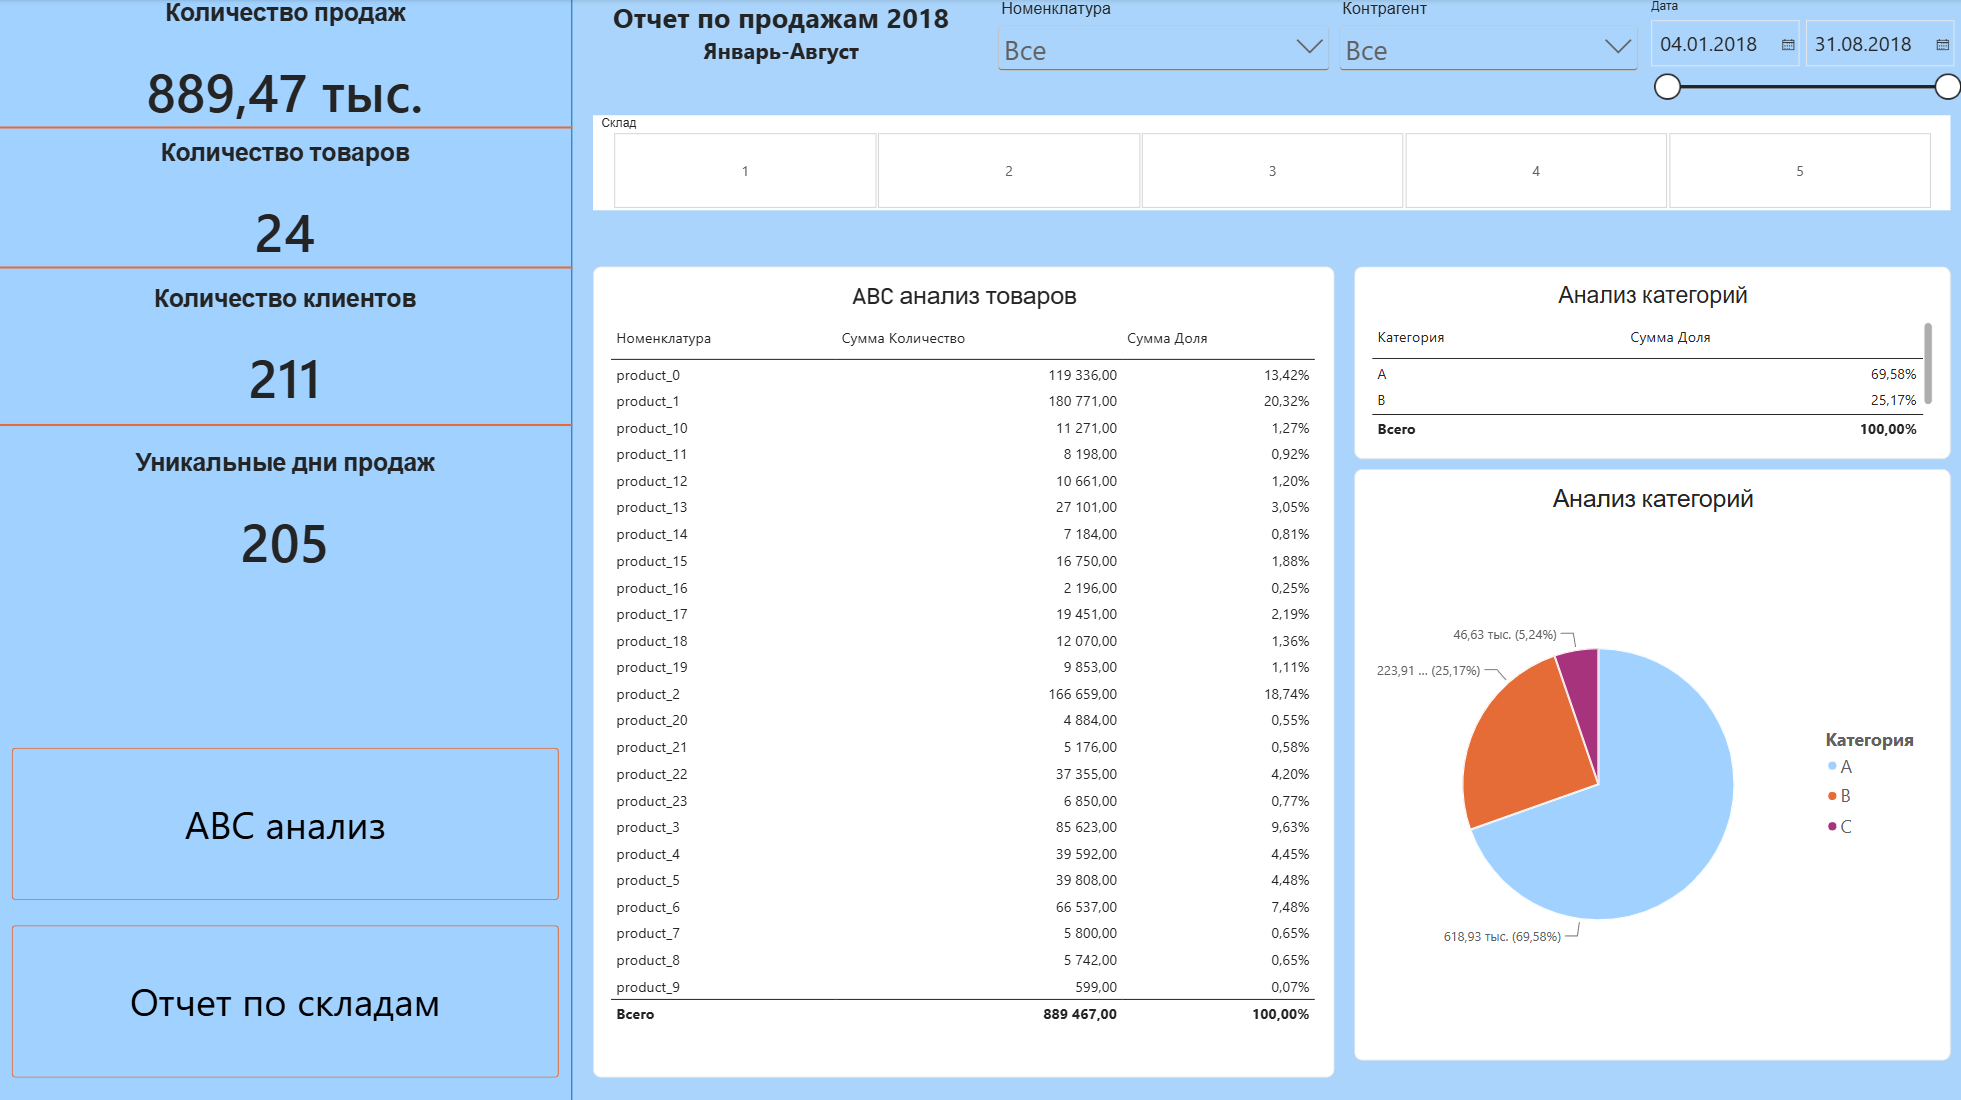

This screenshot's page, from the dashboard's own definition file:
{"tool":"powerbi","page":{"name":"ABC","canvas":[1920,1080],"ordinal":1},"visuals":[{"type":"shape","box":[0,0,560.8,1080.4],"z":0},{"type":"slicer","fields":{"Values":["data.Дата"]},"box":[1606.6,0,313.6,127.6],"z":1000},{"type":"slicer","fields":{"Values":["data.Контрагент"]},"box":[1305,0,301.7,127.6],"z":2000},{"type":"slicer","fields":{"Values":["data.Номенклатура"]},"box":[971.4,0,333.6,127.6],"z":3000},{"type":"slicer","fields":{"Values":["data.Склад"]},"box":[581,113.5,1325.6,92.8],"z":4000},{"type":"cardVisual","title":"Количество продаж","fields":{"Data":["Sum(data.Количество)"]},"box":[0,0,560.8,136.9],"z":5000},{"type":"cardVisual","title":"Количество товаров","fields":{"Data":["Count(data.Номенклатура)"]},"box":[0,136.9,560.8,136.9],"z":6000},{"type":"cardVisual","title":"Количество клиентов","fields":{"Data":["Count(data.Контрагент)"]},"box":[0,279.1,560.8,136.9],"z":7000},{"type":"cardVisual","title":"Уникальные дни продаж","fields":{"Data":["Count(data.Дата)"]},"box":[0,439.9,560.8,136.9],"z":8000},{"type":"textbox","box":[570.1,0,389.4,113],"z":11000},{"type":"shape","box":[0,113,560.8,23.9],"z":12000},{"type":"shape","box":[0,249.8,560.8,23.9],"z":13000},{"type":"shape","box":[0,404,560.8,23.9],"z":14000},{"type":"actionButton","title":"Отчет по складам","box":[13.3,905,534.2,148.8],"z":14001},{"type":"actionButton","box":[13.3,730.9,534.2,148.8],"z":14002},{"type":"tableEx","title":"ABC анализ товаров","fields":{"Values":["ABC.Номенклатура","Sum(data.Количество)","Sum(ABC.Доля)"]},"box":[581,261.2,723.8,792.2],"z":14003},{"type":"tableEx","title":"Анализ категорий","fields":{"Values":["ABC.Категория","ABC.Доля"]},"box":[1324.4,261.2,582.2,188],"z":14004},{"type":"pieChart","title":"Анализ категорий","fields":{"Category":["ABC.Категория"],"Y":["Sum(data.Количество)"]},"box":[1324.4,459,582.2,577.4],"z":14005}]}

Visuals, with their boxes in screenshot pixels (x1, y1, x2, y2), scaled from the page's 1920x1080 canvas onto the 1961x1100 screenshot:
shape: l=0, t=0, r=573, b=1099
slicer - data.Дата: l=1641, t=0, r=1960, b=130
slicer - data.Контрагент: l=1333, t=0, r=1641, b=130
slicer - data.Номенклатура: l=992, t=0, r=1333, b=130
slicer - data.Склад: l=593, t=116, r=1947, b=210
"Количество продаж" cardVisual: l=0, t=0, r=573, b=139
"Количество товаров" cardVisual: l=0, t=139, r=573, b=279
"Количество клиентов" cardVisual: l=0, t=284, r=573, b=424
"Уникальные дни продаж" cardVisual: l=0, t=448, r=573, b=587
textbox: l=582, t=0, r=980, b=115
shape: l=0, t=115, r=573, b=139
shape: l=0, t=254, r=573, b=279
shape: l=0, t=411, r=573, b=436
"Отчет по складам" actionButton: l=14, t=922, r=559, b=1073
actionButton: l=14, t=744, r=559, b=896
"ABC анализ товаров" tableEx: l=593, t=266, r=1333, b=1073
"Анализ категорий" tableEx: l=1353, t=266, r=1947, b=458
"Анализ категорий" pieChart: l=1353, t=468, r=1947, b=1056
